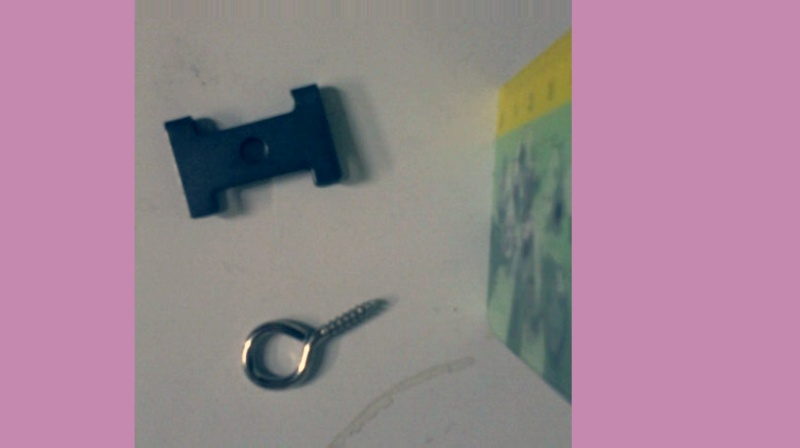O001: (235, 291, 393, 395)
O002: (161, 78, 344, 221)
